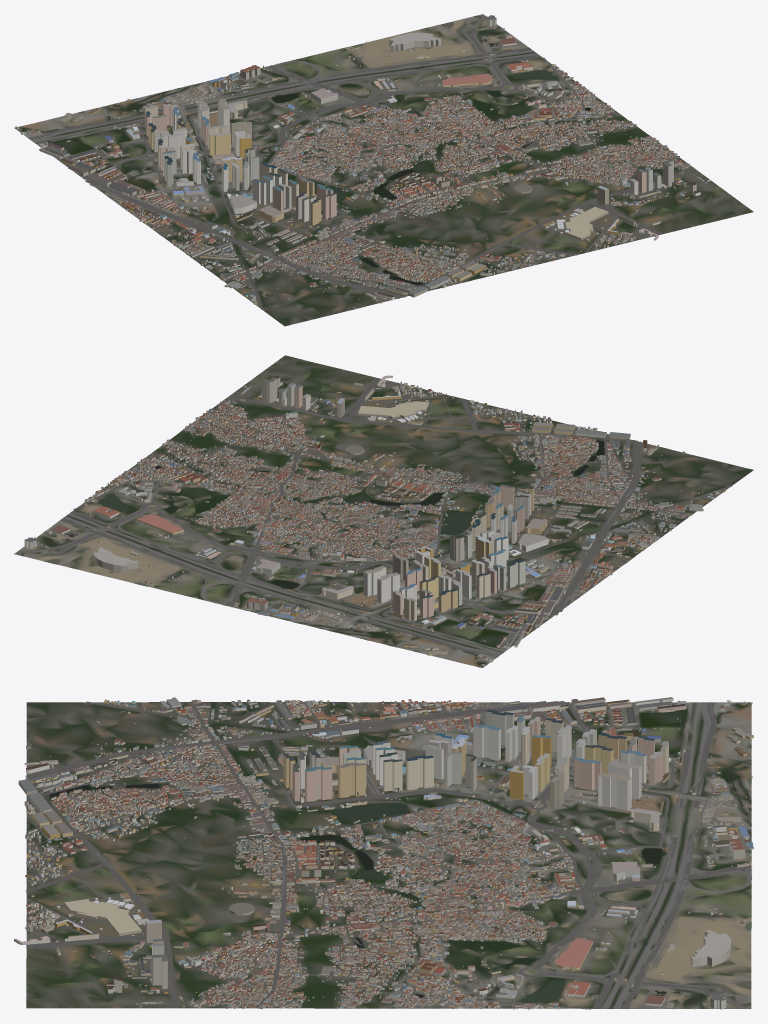
3 renders of one model, top to bottom at view 1: azimuth 30°, elevation 25°; view 2: azimuth 150°, elevation 25°; view 3: azimuth 270°, elevation 25°, orthographic. The views are drawn at different scales.
Parts seen in each view (by area): view 1: ground, buildings, roads, water; view 2: ground, buildings, roads, water; view 3: ground, buildings, roads, water.
Part boxes in pixels (x1,y1,x2,y2): ground: [14, 14, 753, 326]; buildings: [15, 15, 710, 309]; roads: [28, 15, 698, 309]; water: [129, 21, 590, 285]; ground: [14, 355, 753, 667]; buildings: [24, 375, 725, 667]; roads: [16, 377, 731, 657]; water: [44, 440, 661, 636]; ground: [26, 702, 751, 1008]; buildings: [14, 697, 753, 1009]; roads: [25, 701, 752, 1009]; water: [49, 702, 751, 1003].
Bounding box in the file's own units: 2839 × 135 × 2862.
